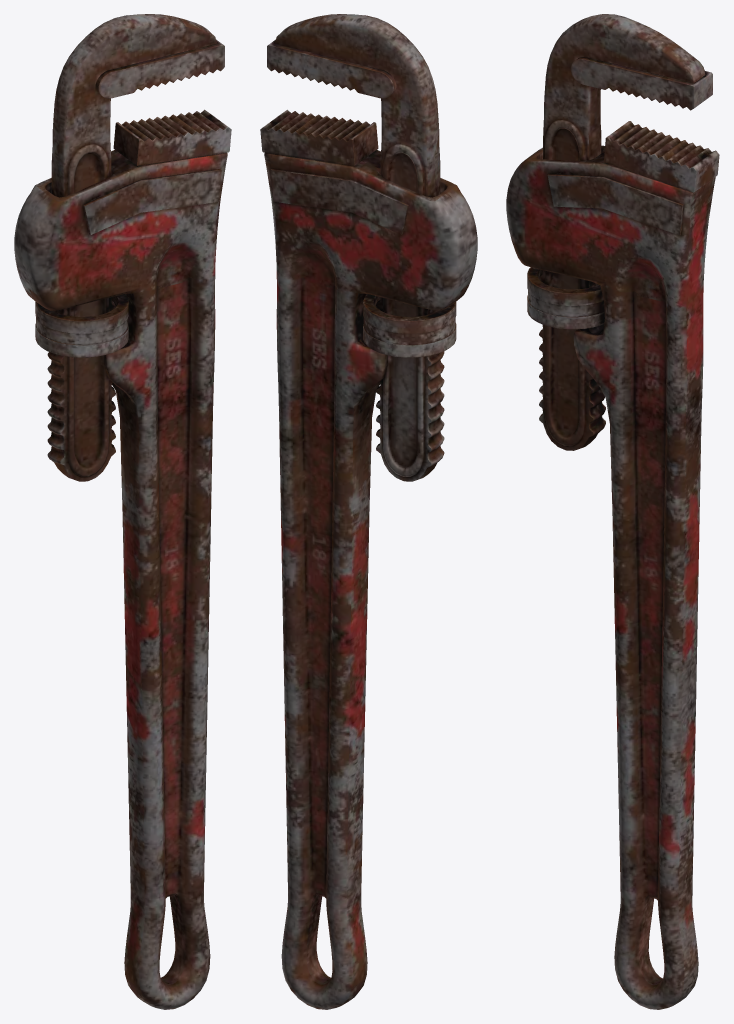
File: pipe_wrench.f99e817d.glb
3 renders of one model, left to right at view 1: azimuth 30°, elevation 25°; view 2: azimuth 150°, elevation 25°; view 3: azimuth 330°, elevation 25°, orthographic.
Parts seen in each view (by area): view 1: pipe_wrench; view 2: pipe_wrench; view 3: pipe_wrench.
Part boxes in pixels (bbox=[...]): pipe_wrench: bbox=[14, 14, 231, 1009]; pipe_wrench: bbox=[260, 14, 477, 1009]; pipe_wrench: bbox=[506, 14, 719, 1009].
Bounding box in the file's own units: 0.2075 × 1 × 0.0848.
1 material, 1 textured.
